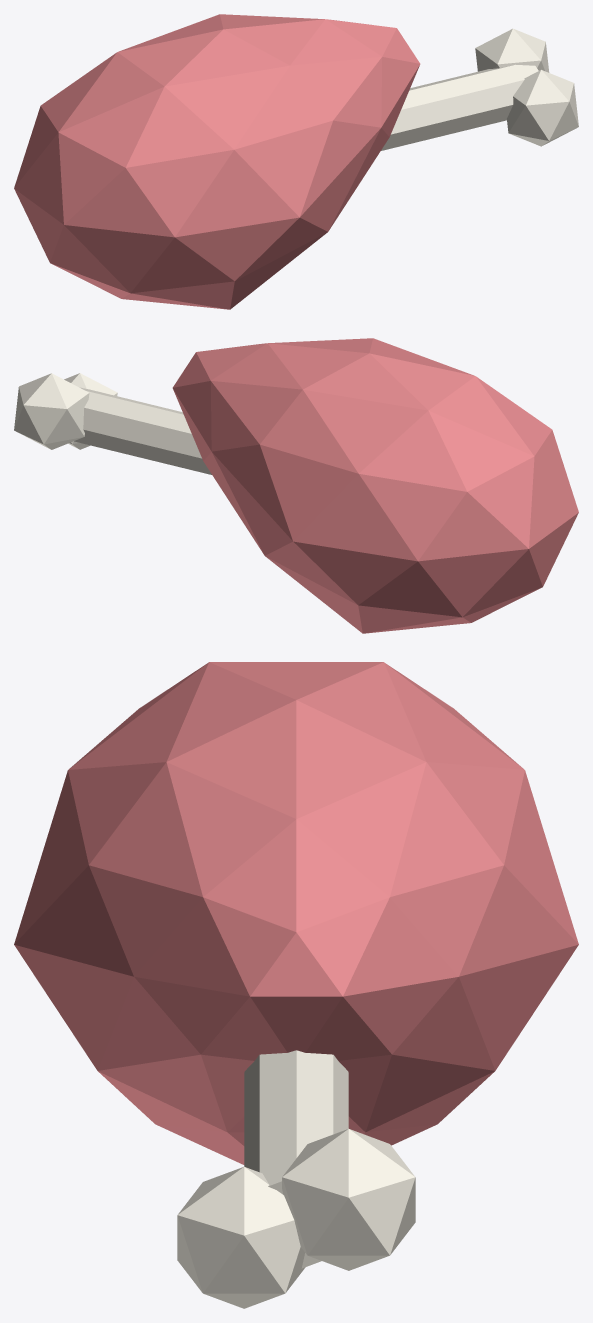
Rendered from MeatRaw_gen.glb.
3 renders of one model, top to bottom at view 1: azimuth 30°, elevation 25°; view 2: azimuth 150°, elevation 25°; view 3: azimuth 270°, elevation 25°, orthographic. The views are drawn at different scales.
Visible parts, largest first — view 1: raw_body; view 2: raw_body; view 3: raw_body.
Part boxes in pixels (<box>): raw_body: <box>14,14,578,309</box>; raw_body: <box>14,338,578,633</box>; raw_body: <box>14,662,578,1308</box>.
Bounding box in the file's own units: 1.06 × 0.516 × 0.54.
